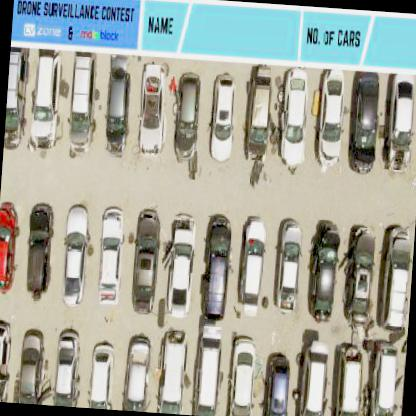car: (304, 222, 340, 322), (129, 208, 162, 317), (200, 217, 235, 319), (4, 33, 32, 154), (350, 74, 382, 176), (24, 204, 58, 298), (383, 229, 413, 334), (346, 227, 378, 324), (103, 57, 133, 160), (61, 206, 92, 304), (168, 217, 198, 318), (69, 54, 98, 158), (30, 52, 61, 149), (281, 70, 310, 172), (244, 64, 274, 162), (208, 72, 238, 166), (98, 209, 126, 307), (172, 72, 202, 163), (138, 66, 167, 160), (275, 222, 304, 316), (388, 77, 415, 177), (239, 219, 267, 312), (318, 71, 345, 166), (228, 336, 260, 415), (196, 324, 223, 415), (331, 347, 367, 415), (160, 330, 188, 414), (18, 328, 48, 404), (0, 201, 24, 293), (303, 340, 332, 415), (123, 336, 151, 411), (88, 339, 118, 409), (56, 331, 83, 405), (262, 355, 292, 415), (375, 345, 400, 415), (0, 320, 16, 402)
